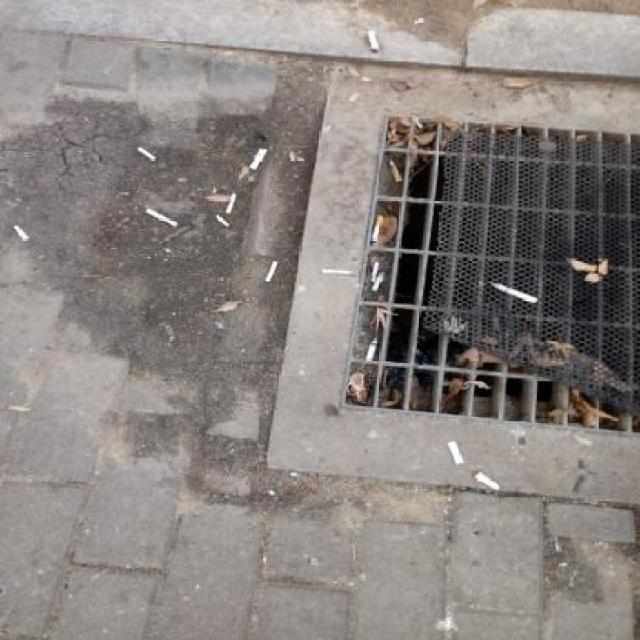Drain Hole: (329, 103, 640, 432)
